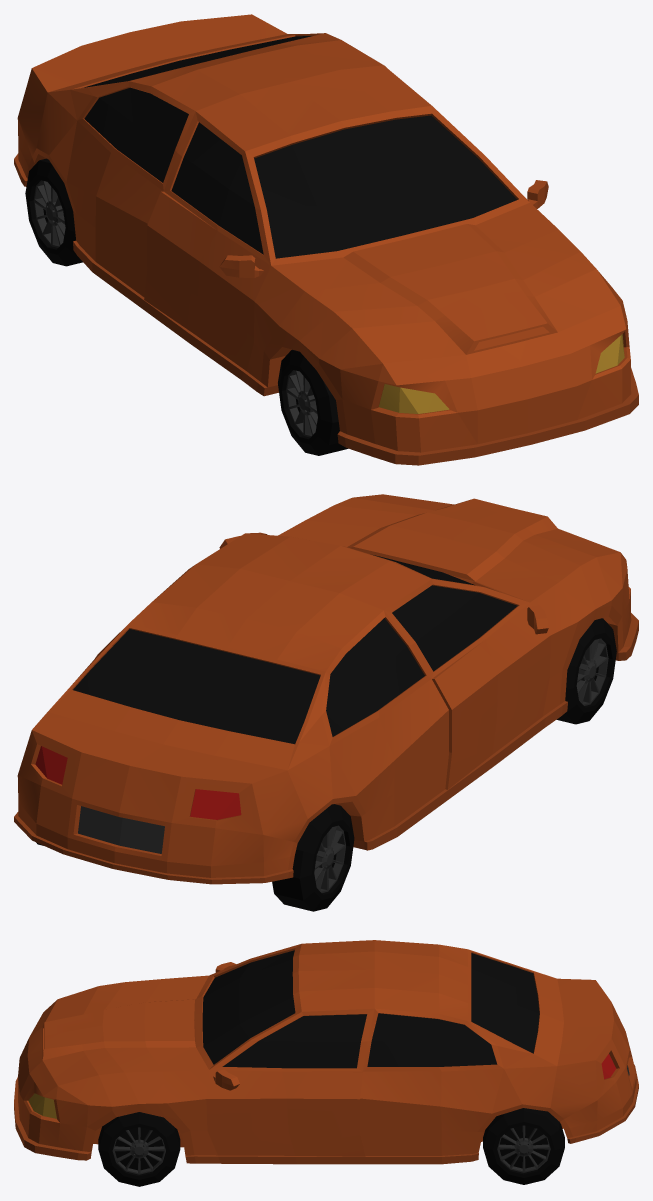
The model's file is sportsCar.obj.
3 views of the same model, one above another, from view 1: azimuth 30°, elevation 25°; view 2: azimuth 150°, elevation 25°; view 3: azimuth 270°, elevation 25° (orthographic). The views are drawn at different scales.
Visible parts, largest first — view 1: SportsCar_Cube.005, SportsCar_FrontRightWheel_Cylinder.014, SportsCar_BackWheels_Cylinder.004; view 2: SportsCar_Cube.005, SportsCar_BackWheels_Cylinder.004, SportsCar_FrontRightWheel_Cylinder.014; view 3: SportsCar_Cube.005, SportsCar_BackWheels_Cylinder.004, SportsCar_FrontLeftWheel_Cylinder.013.
Boxes of the visible parts, x1=… form: SportsCar_Cube.005: x1=14, y1=14, x2=638, y2=465; SportsCar_FrontRightWheel_Cylinder.014: x1=278, y1=349, x2=348, y2=455; SportsCar_BackWheels_Cylinder.004: x1=25, y1=158, x2=82, y2=266; SportsCar_Cube.005: x1=14, y1=494, x2=638, y2=884; SportsCar_BackWheels_Cylinder.004: x1=36, y1=804, x2=354, y2=911; SportsCar_FrontRightWheel_Cylinder.014: x1=556, y1=618, x2=616, y2=724; SportsCar_Cube.005: x1=14, y1=940, x2=638, y2=1164; SportsCar_BackWheels_Cylinder.004: x1=483, y1=1108, x2=564, y2=1184; SportsCar_FrontLeftWheel_Cylinder.013: x1=98, y1=1112, x2=180, y2=1186.
Bounding box in the file's own units: 1.8 × 1.16 × 3.97.
